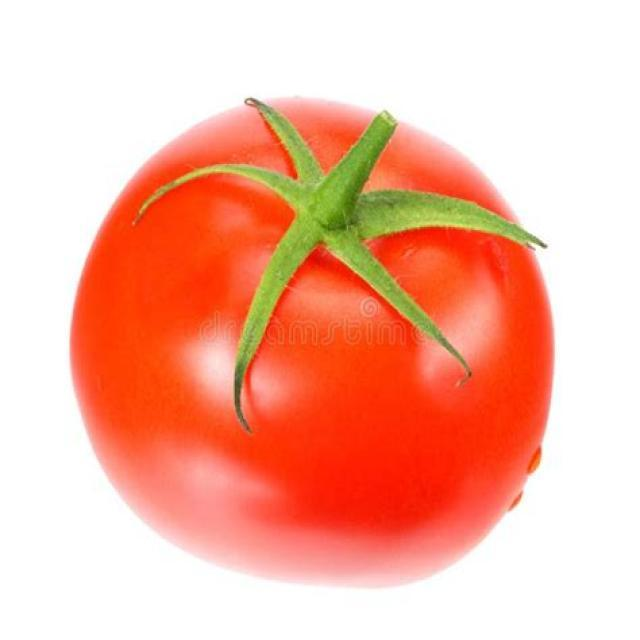Tomato: (68, 96, 558, 593)
